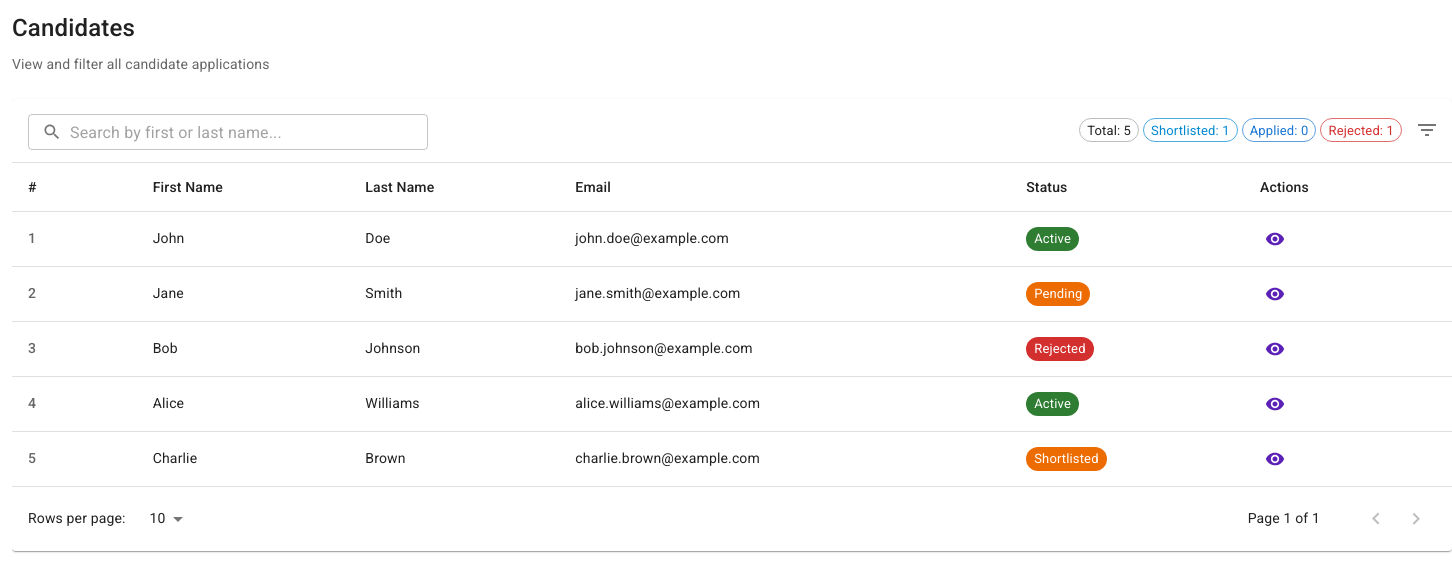
Test: CandidatesListPage › should filter candidates by status
The width and height of the screenshot is (1452, 570).
Expected: the text "John" is shown, [137, 212, 349, 266]
Click the button named "filter": x=1427, y=130 [1410, 114, 1444, 148]
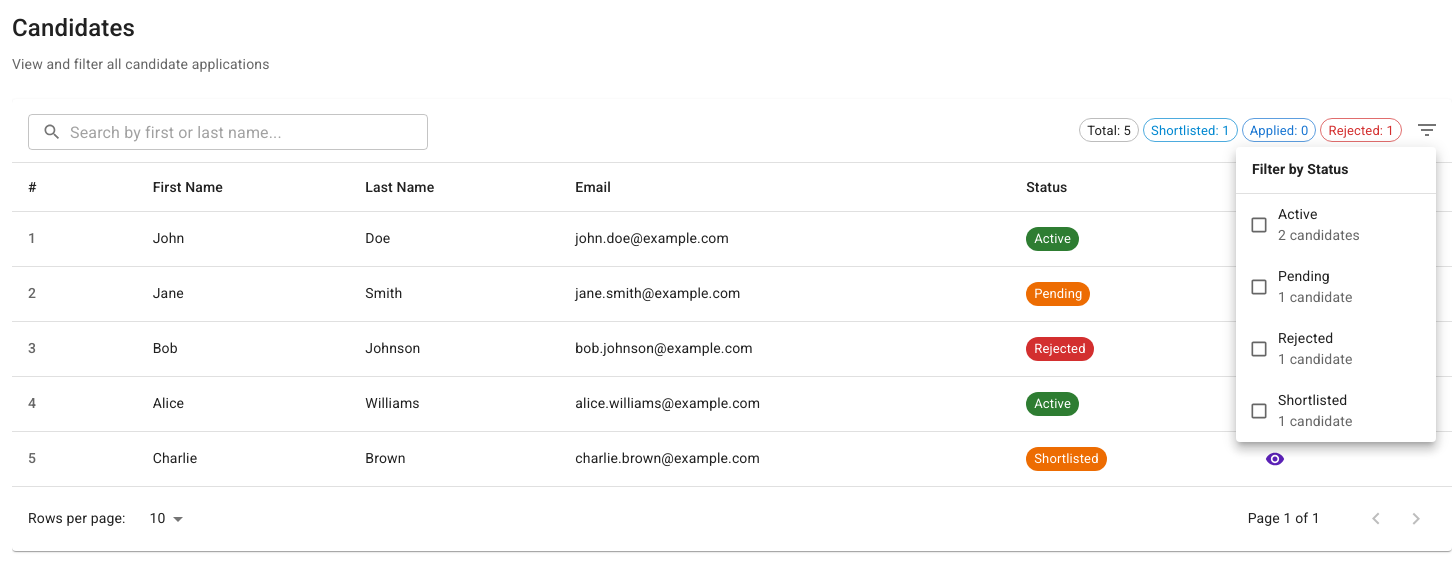
Result: the heading "Filter by Status" is shown at [1252, 159, 1348, 181]
Click the 1st checkbox: x=1259, y=225 [1249, 215, 1269, 235]
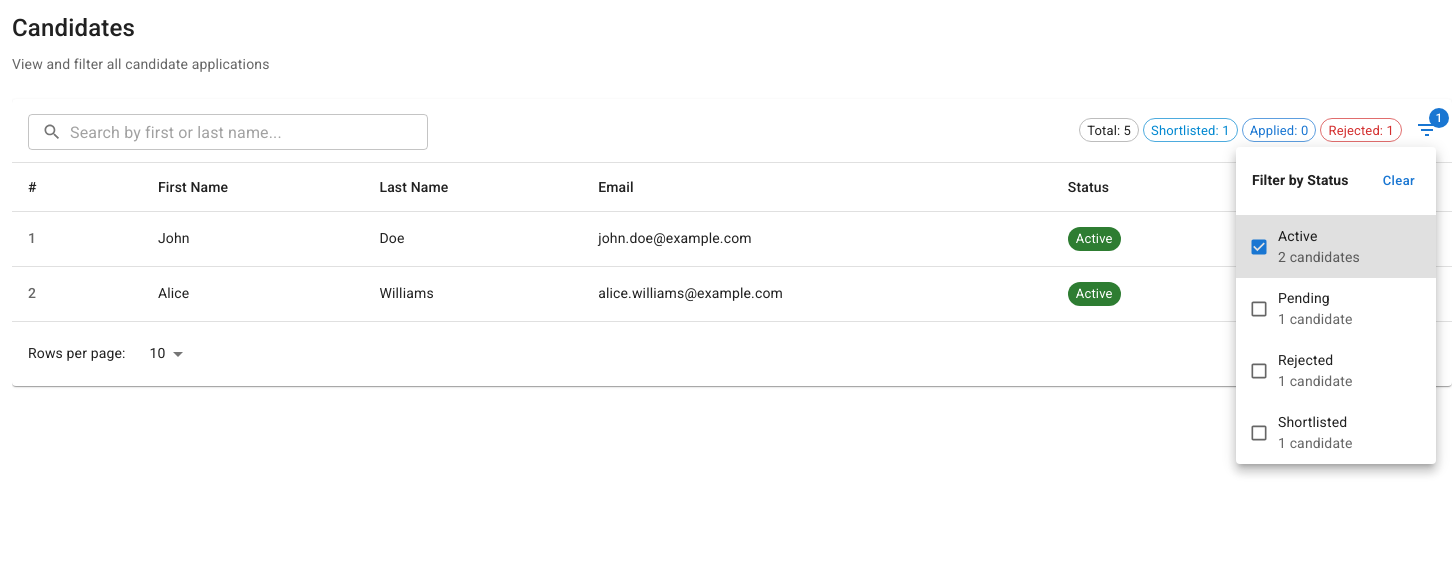
Expected: the text "John" is shown, [142, 212, 364, 266]
Result: the text "Jane" is gone
Result: the text "Bob" is gone
